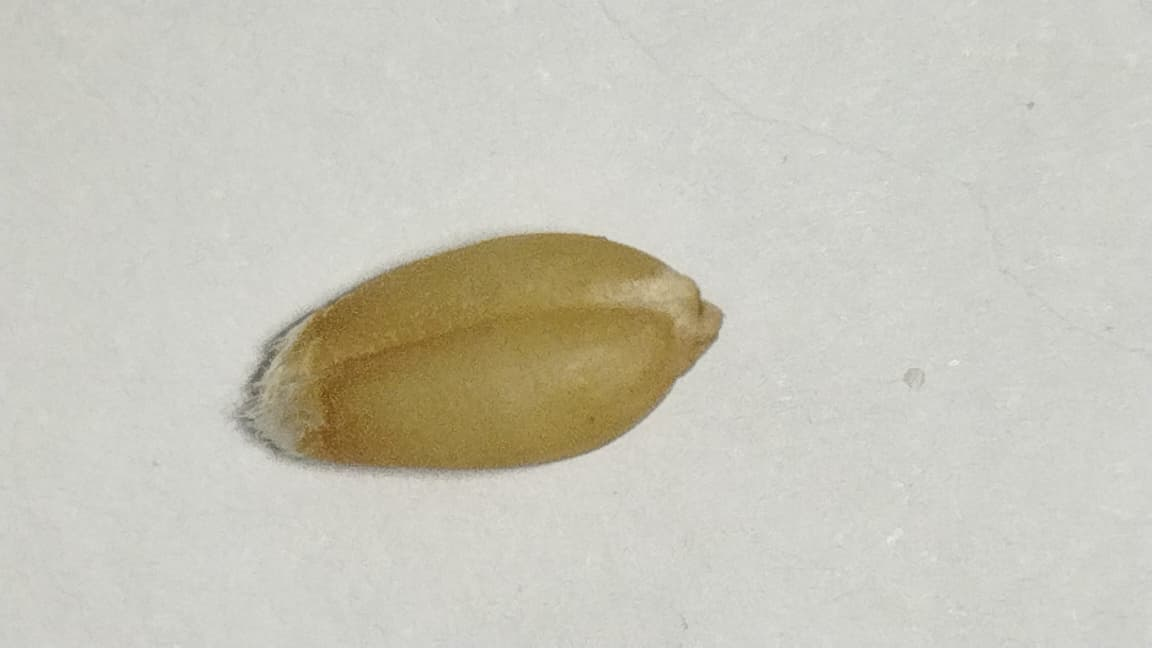healthy: (262, 234, 720, 463)
